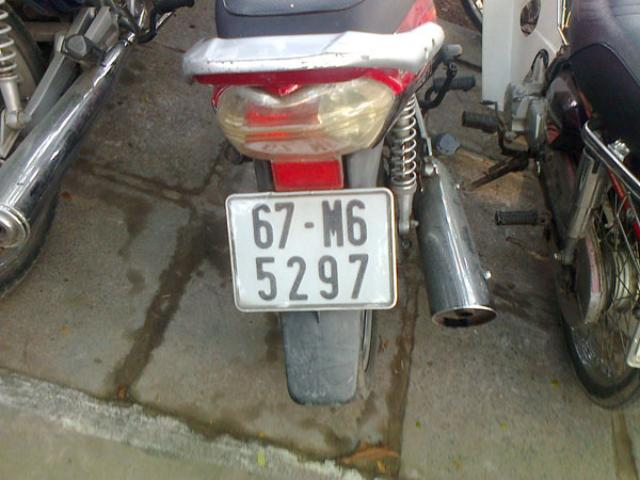plate: (224, 190, 396, 309)
